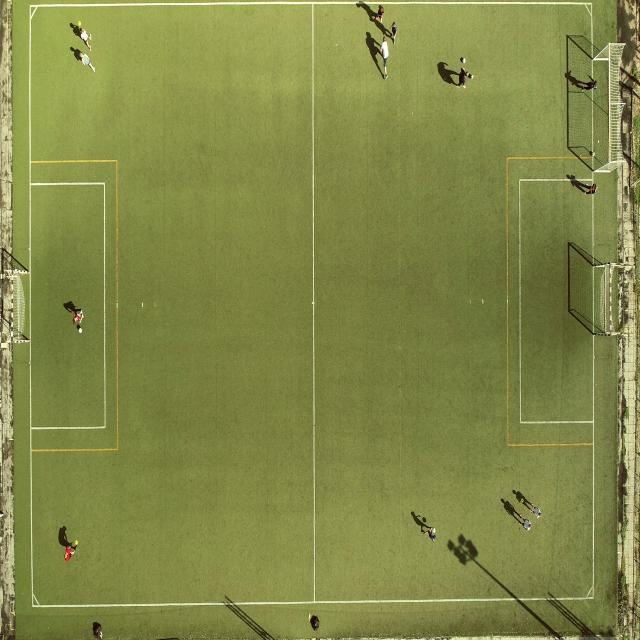vehicle: (381, 36, 389, 80), (78, 52, 95, 72), (456, 66, 469, 88), (78, 28, 92, 48), (72, 308, 84, 329), (582, 74, 597, 90), (64, 543, 76, 562), (423, 526, 436, 542), (390, 20, 398, 45), (373, 5, 384, 22), (584, 182, 598, 195), (532, 506, 540, 518), (523, 518, 531, 530)
